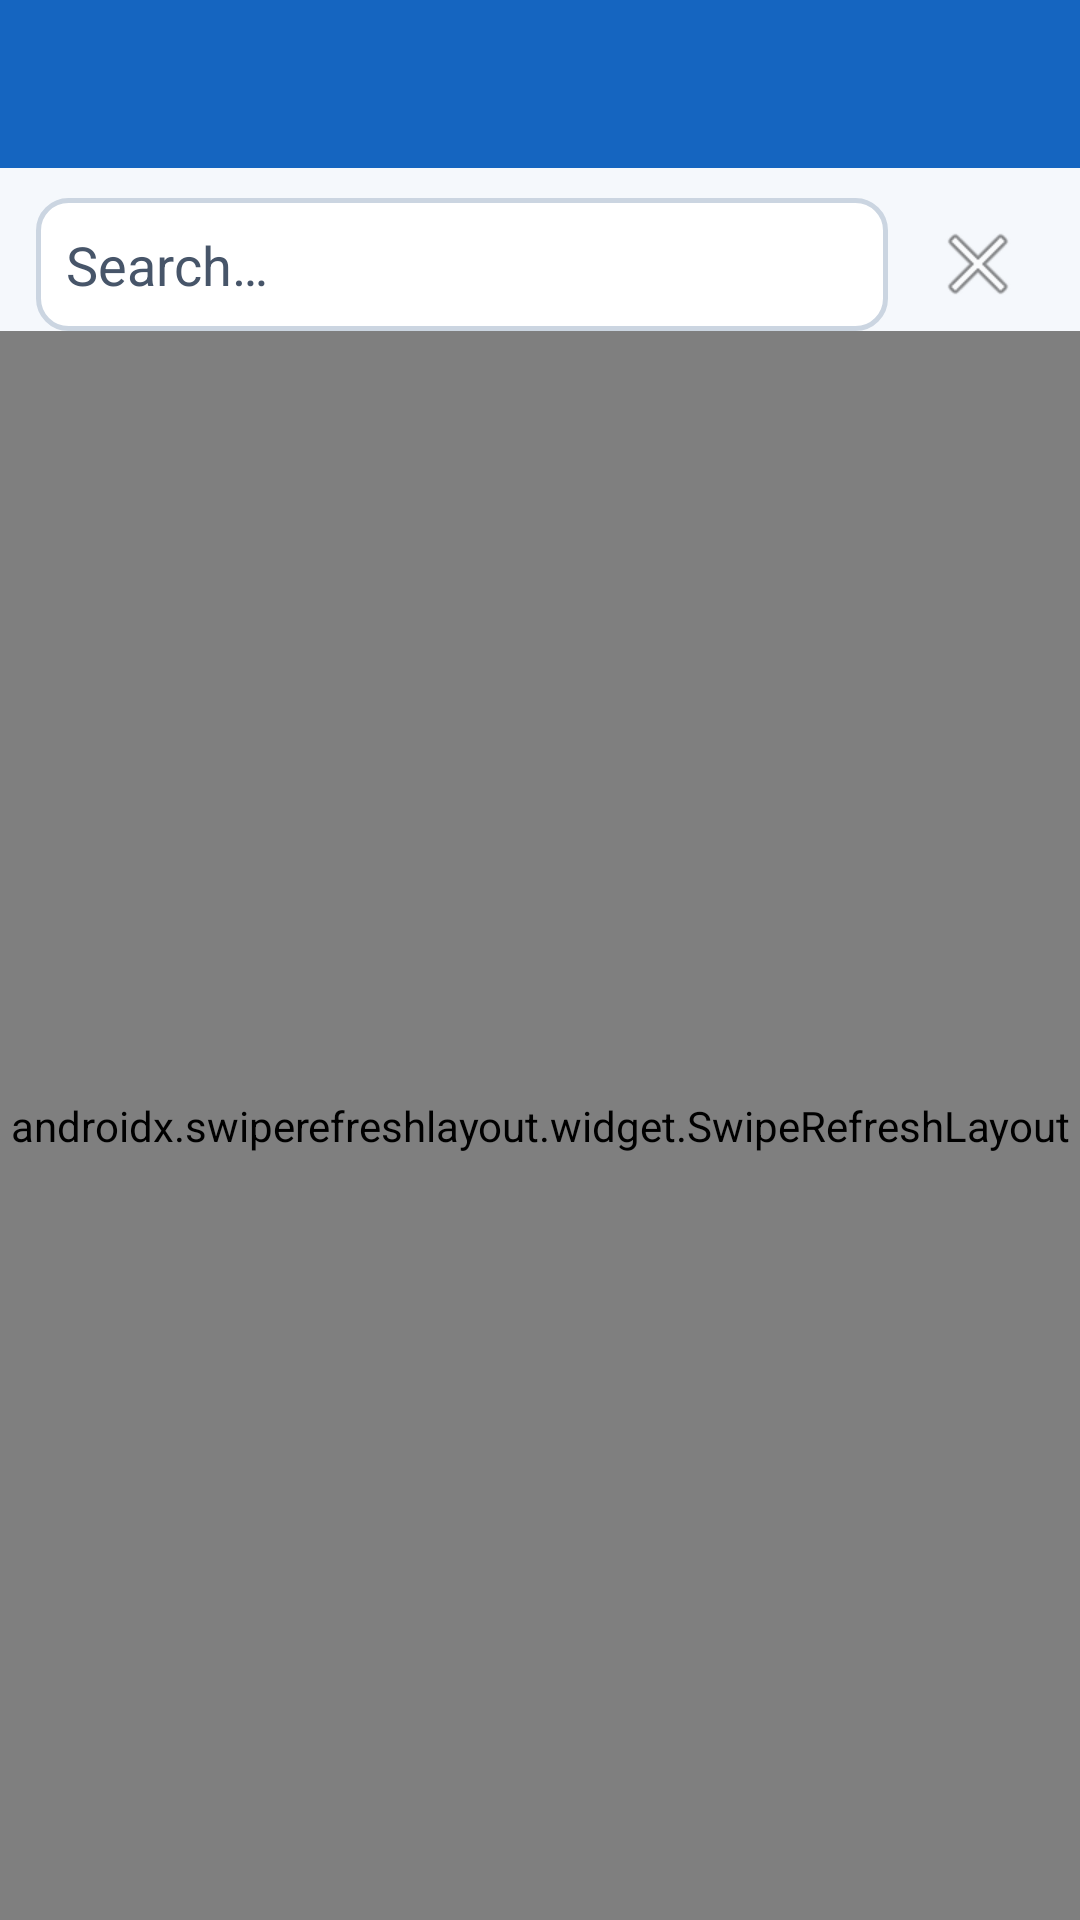

Icons on this 1080px×1920px Android screen, each with the point to tap as point (x, y):
Clear: point (978, 264)
